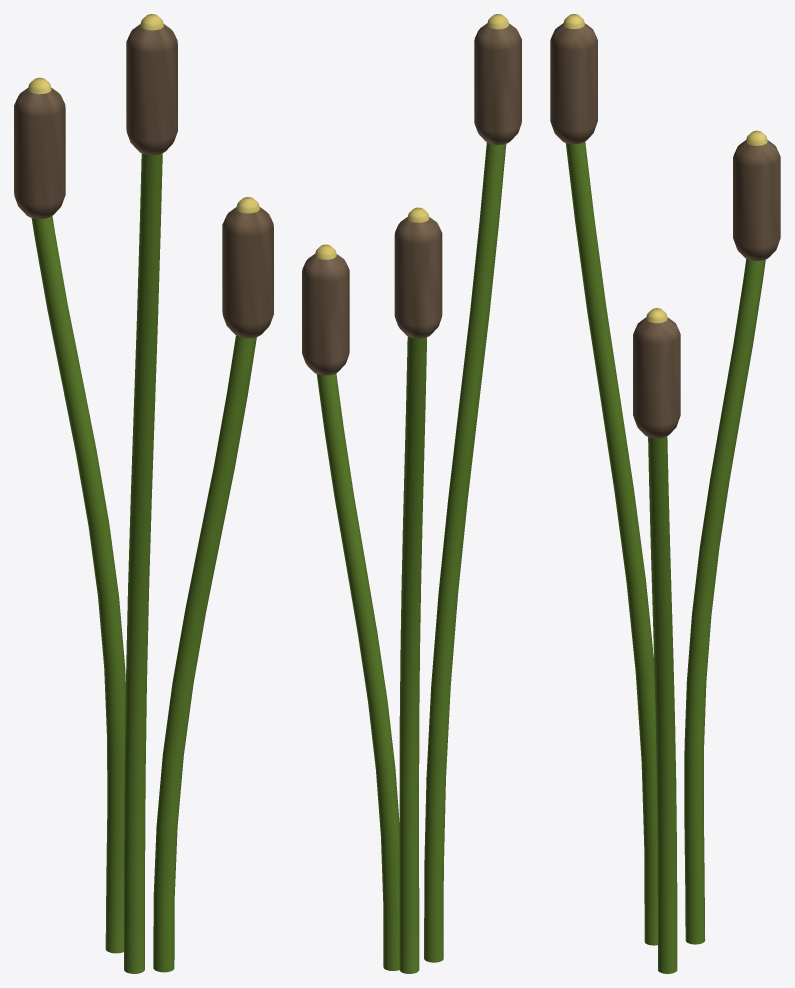
File: CatTails.fbx
3 renders of one model, left to right at view 1: azimuth 30°, elevation 25°; view 2: azimuth 150°, elevation 25°; view 3: azimuth 270°, elevation 25°, orthographic. The views are drawn at different scales.
Parts seen in each view (by area): view 1: pCylinder7; view 2: pCylinder7; view 3: pCylinder7.
Boxes of the visible parts, <box> form: pCylinder7: <box>14,14,273,973</box>; pCylinder7: <box>302,14,521,973</box>; pCylinder7: <box>550,14,780,973</box>.
Bounding box in the file's own units: 0.3782 × 1.82 × 0.4116.
